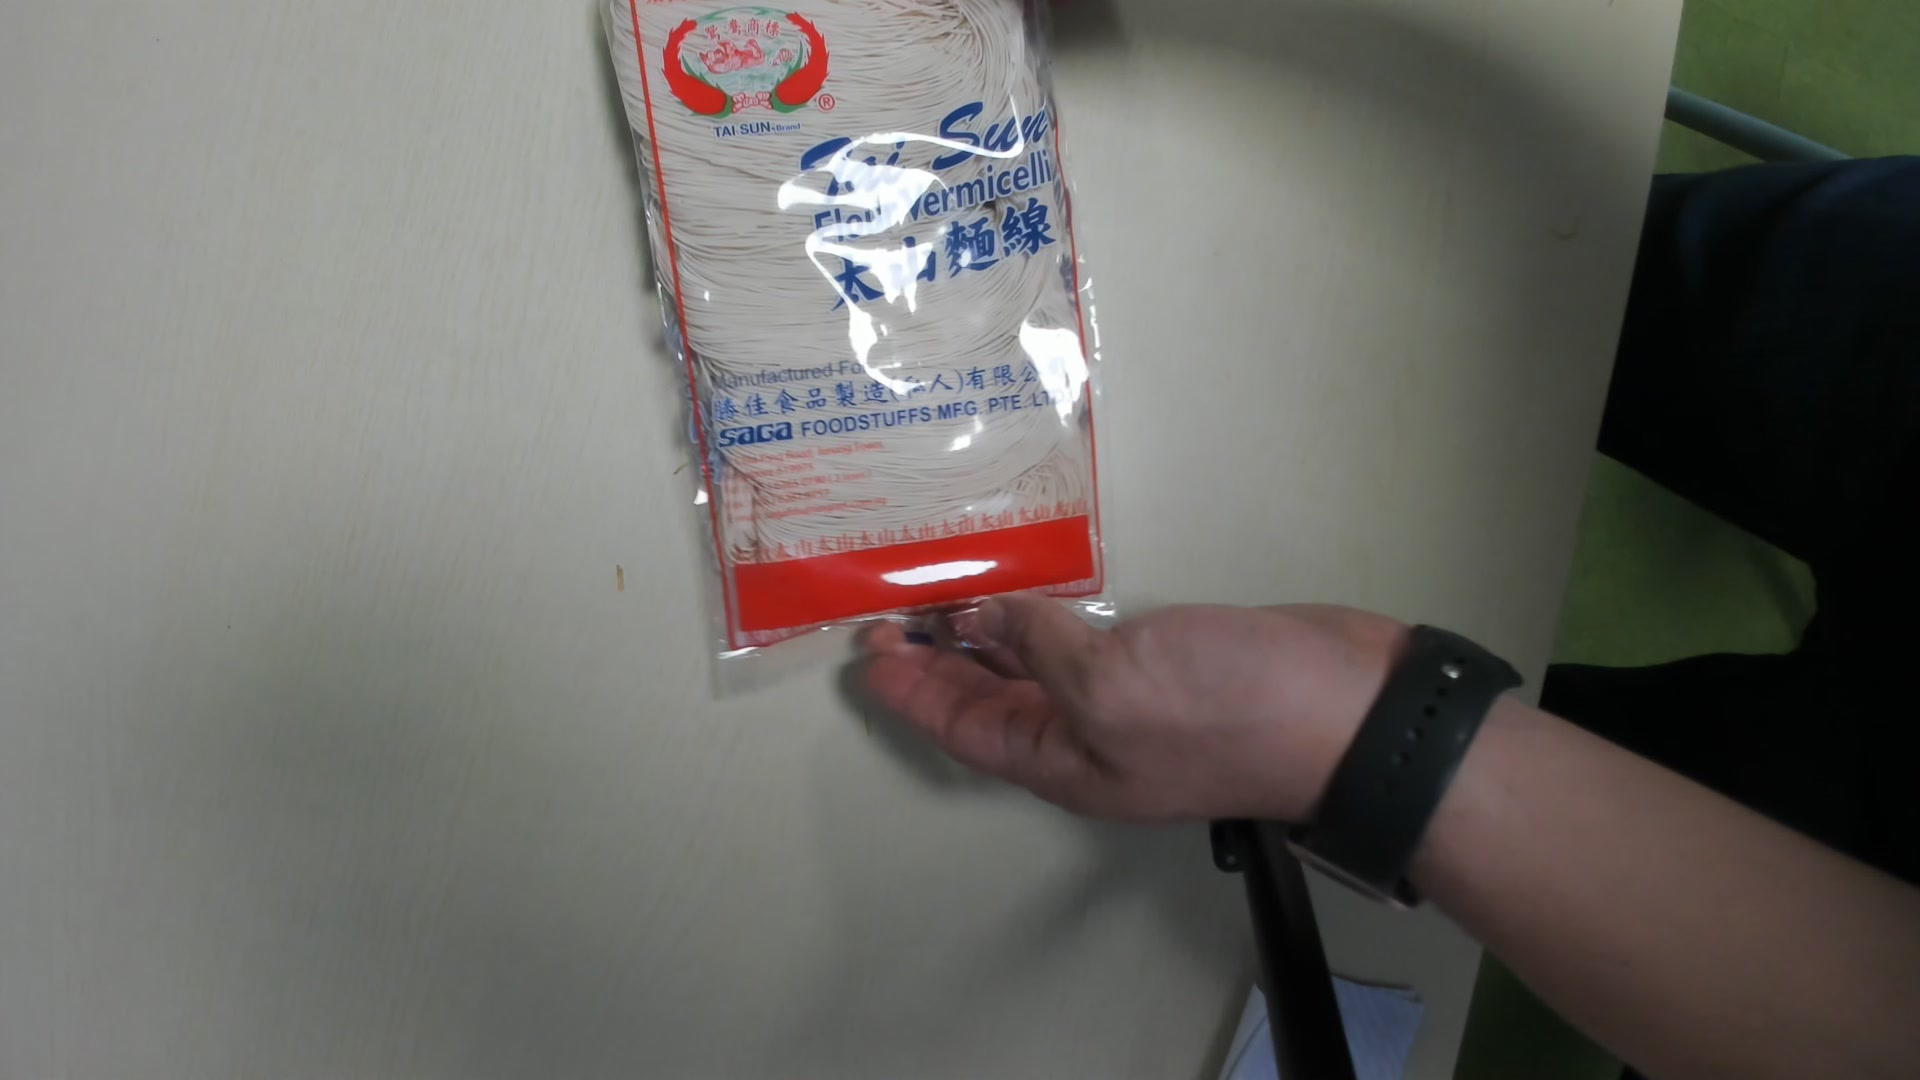BeeHoonVermicelli_300-399g_Halal_NonHealthy: (603, 1, 1137, 688)
